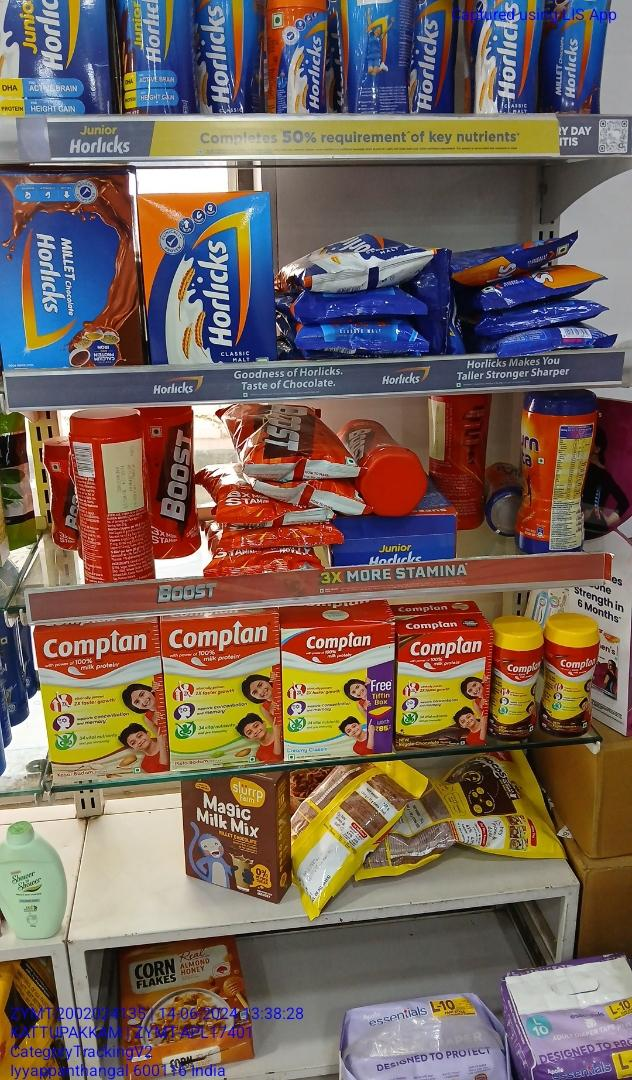COMPLAN_CHOCOLATE_200_GMS_JAR: (546, 619, 594, 735), (493, 628, 538, 740)
COMPLAN_CHOCOLATE_500_GMS_PACK: (396, 635, 486, 747)
COMPLAN_CREAMY_CLASSIC_500_G_PACK: (283, 628, 394, 756)
COMPLAN_KESAR_BADAM_500_GMS_PACK: (37, 625, 159, 776), (164, 621, 279, 764)
HORLICK_CLASSIC_MALT_200_G_JAR: (270, 0, 327, 116)
HORLICK_CLASSIC_MALT_500_G_PACK: (142, 194, 274, 361)
